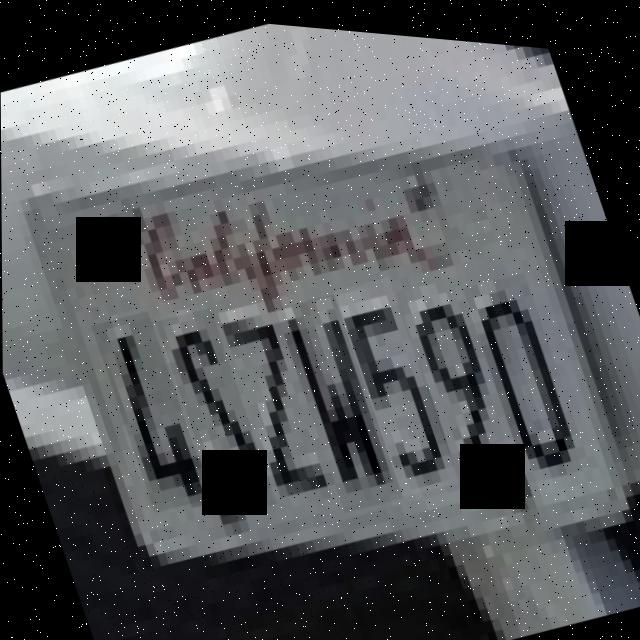0: (462, 258, 590, 476)
4: (90, 304, 211, 513)
5: (332, 265, 459, 492)
9: (392, 254, 527, 491)
S: (155, 300, 276, 517)
W: (274, 283, 402, 510)
Z: (209, 281, 332, 503)
